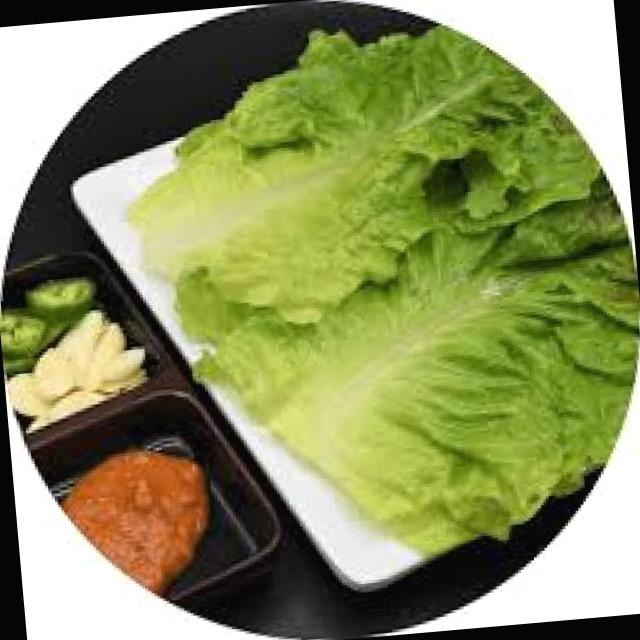Lettuce-Ready-to-Harvest: (128, 26, 640, 557)
